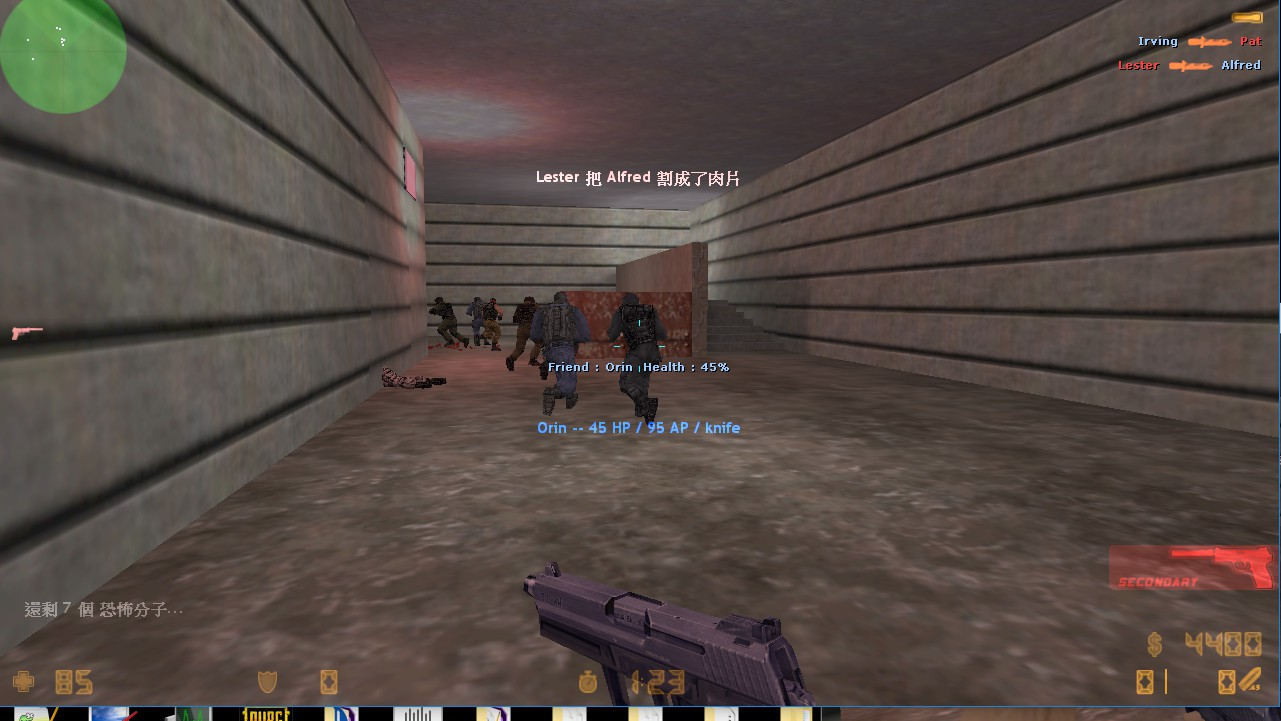person: (607, 289, 668, 423), (531, 290, 593, 418), (426, 292, 467, 356), (482, 295, 504, 354), (466, 294, 490, 348)
